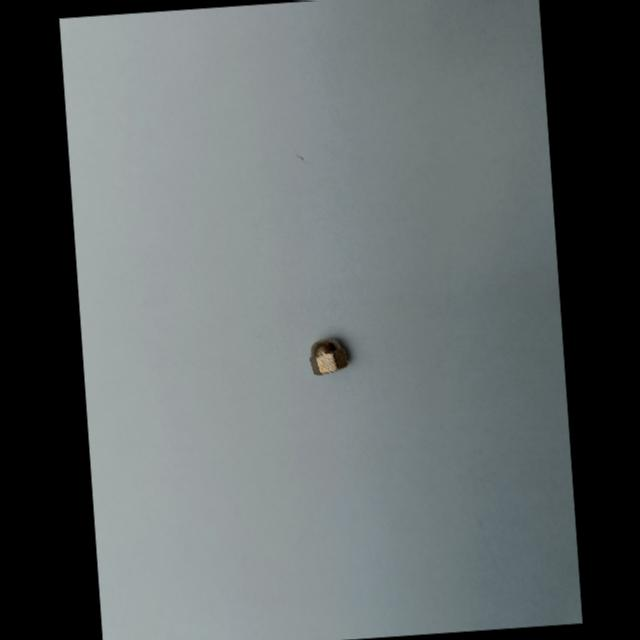nuts: (309, 336, 349, 375)
